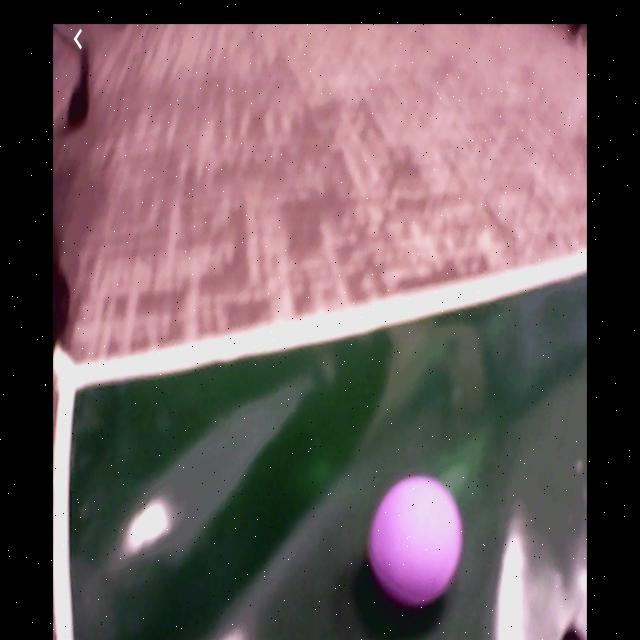ball: (366, 475, 463, 606)
